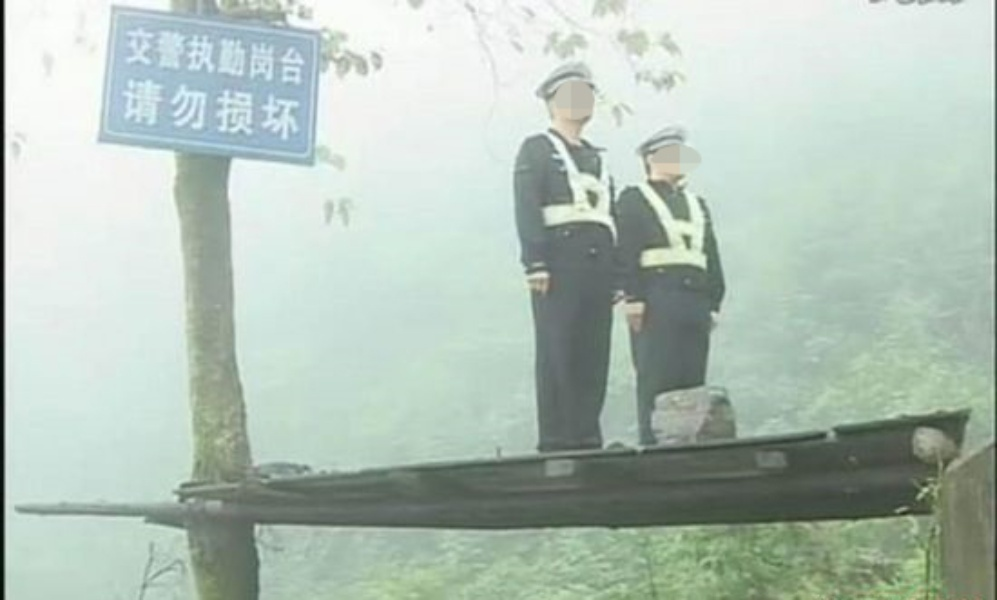text: (289, 75, 305, 144), (129, 75, 144, 144), (145, 75, 160, 144), (161, 75, 176, 144), (177, 75, 192, 144), (193, 75, 208, 144), (209, 75, 224, 144), (225, 75, 240, 144), (241, 75, 256, 144), (257, 75, 272, 144), (273, 75, 288, 144), (129, 24, 144, 88), (145, 24, 160, 88), (161, 24, 176, 88), (177, 24, 192, 88), (193, 24, 208, 88), (209, 24, 224, 88), (225, 24, 240, 88), (241, 24, 256, 88), (257, 24, 272, 88), (273, 24, 288, 88), (289, 24, 304, 88), (124, 75, 128, 144), (126, 24, 128, 88), (305, 24, 307, 88)
